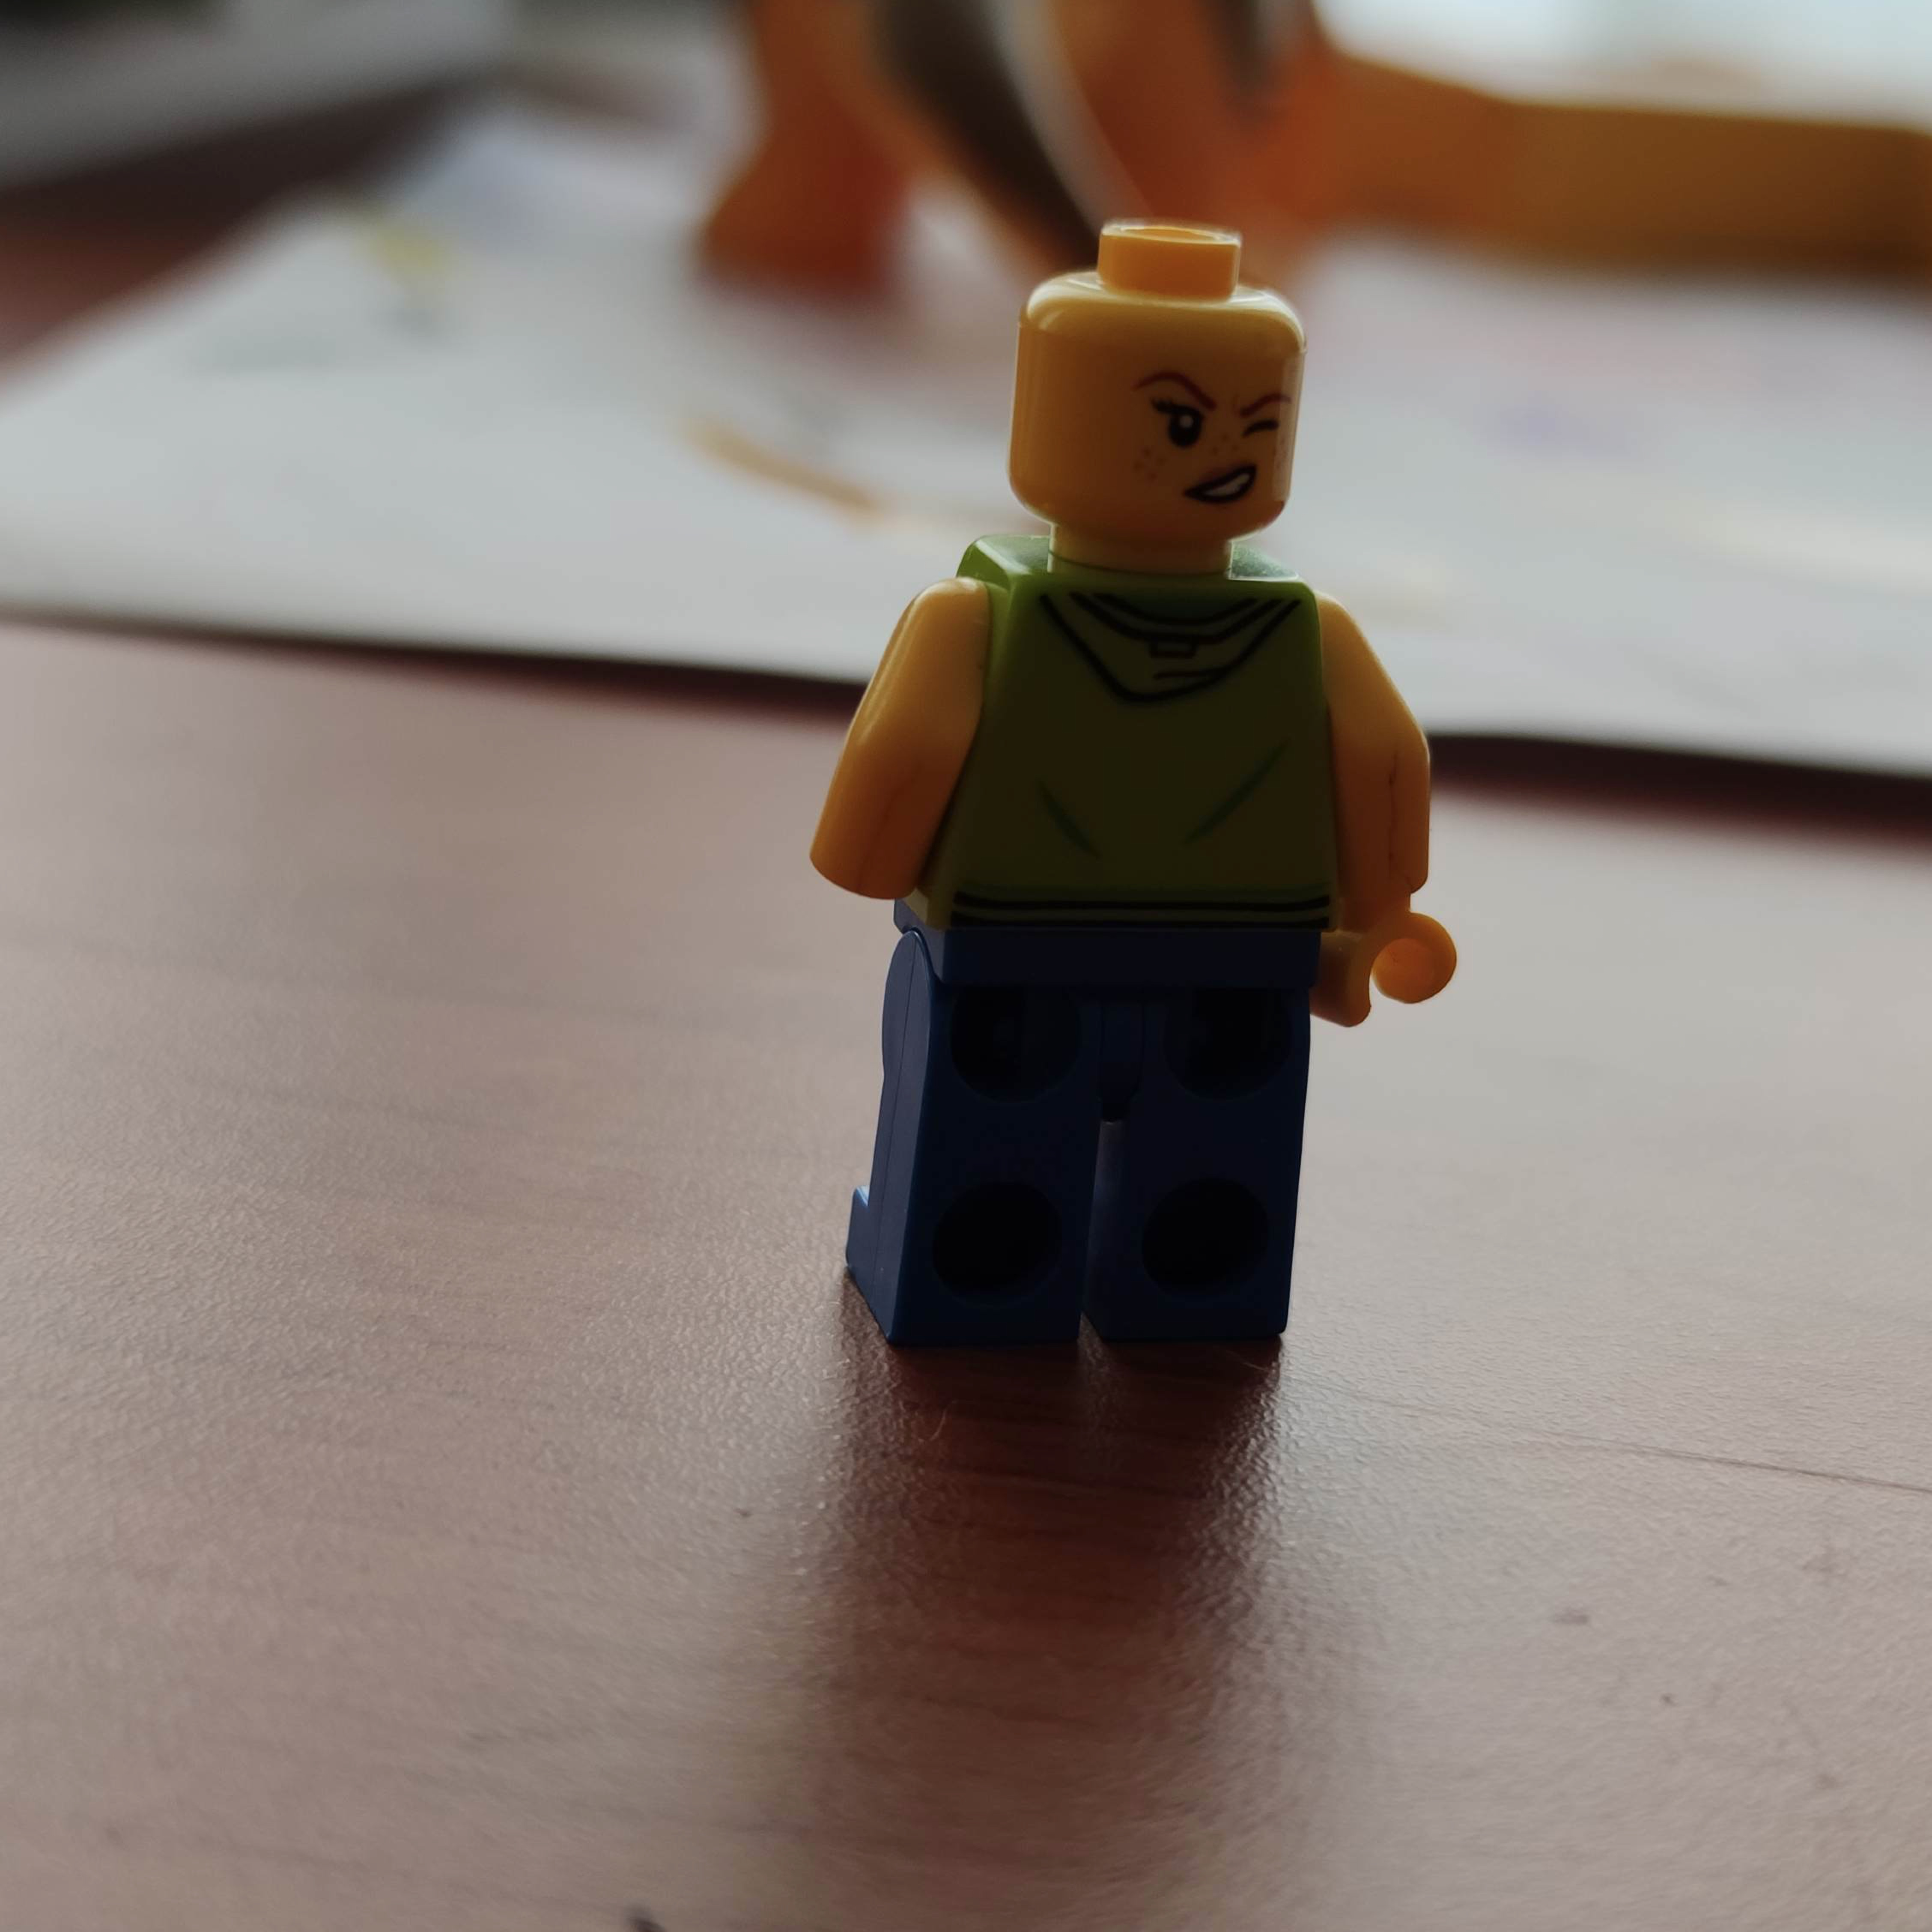lego: (812, 219, 1454, 1361)
